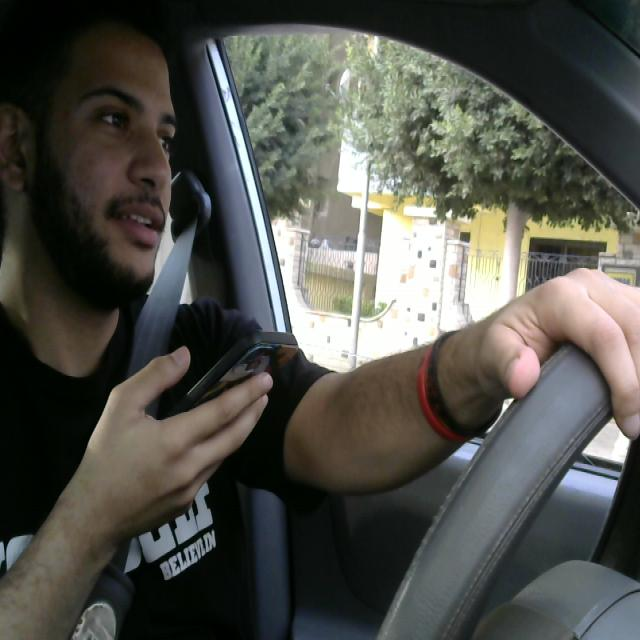mobile use: (150, 323, 298, 472)
